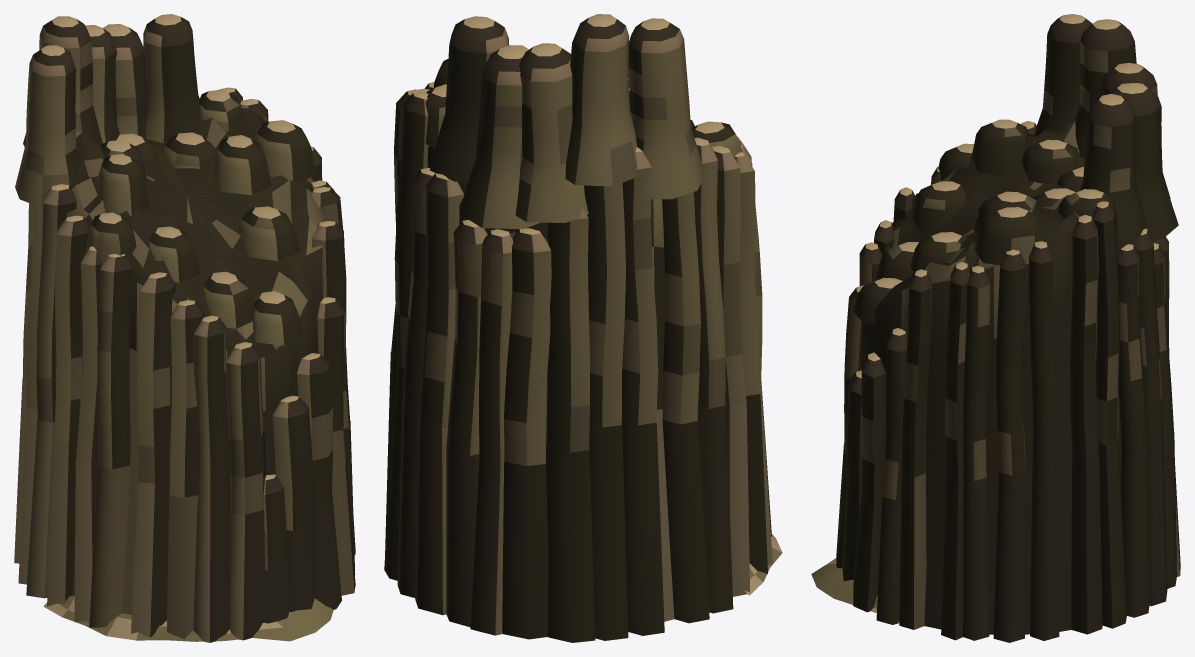
The model's file is ZonTmound01.glb.
The picture shows the model from 3 angles, left to right: view 1: azimuth 30°, elevation 25°; view 2: azimuth 150°, elevation 25°; view 3: azimuth 270°, elevation 25°; orthographic projection. The views are drawn at different scales.
Visible parts, largest first — view 1: mound_core; view 2: mound_core; view 3: mound_core.
Boxes of the visible parts, x1,y1,x2,y2 form: mound_core: [14, 14, 355, 642]; mound_core: [384, 14, 782, 642]; mound_core: [811, 14, 1180, 642].
Size of the model in its own units: 4.04 by 6.92 by 4.48.
